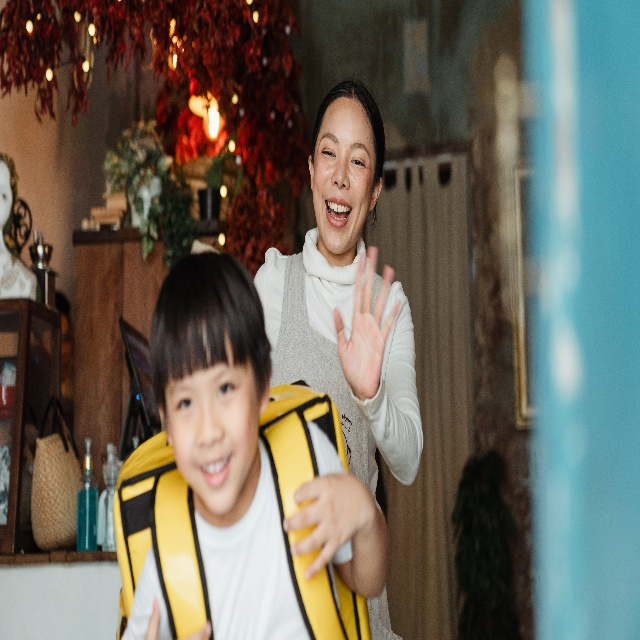Sin_guantes: (334, 246, 400, 397), (282, 470, 373, 577)
